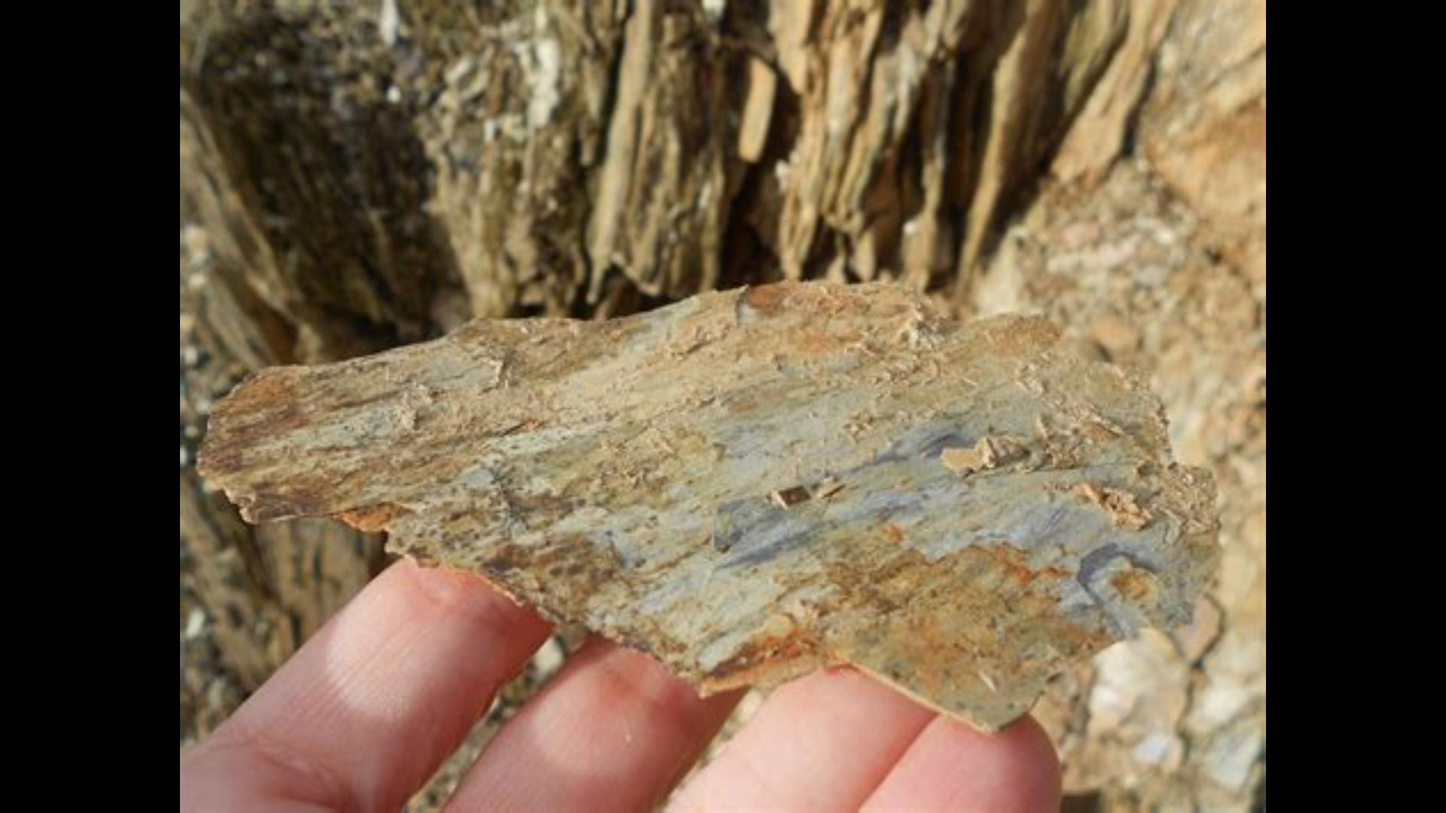rock: (205, 284, 1216, 776)
